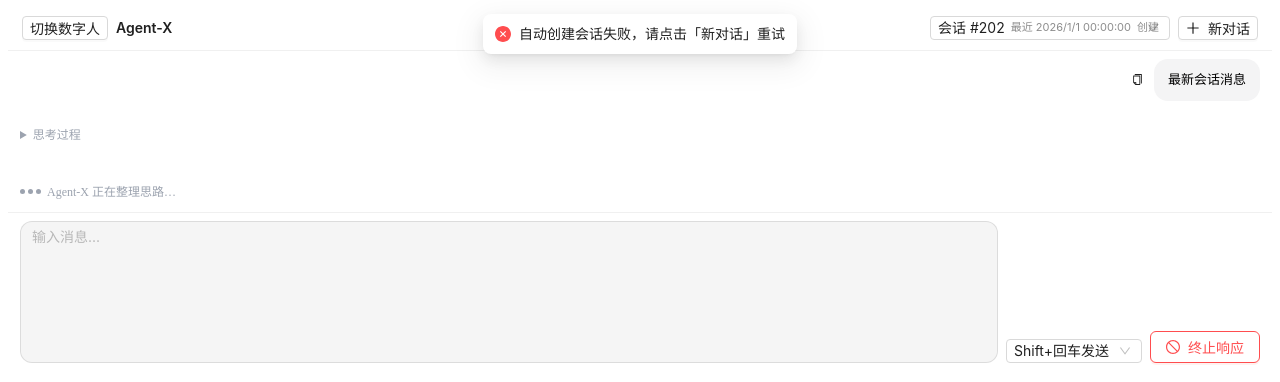
Test case: WorkitemClarificationPanel › does not render old realtime thinking after selecting a historical conversation
Check: the text "最新会话消息" is shown, box [1154,59,1260,101]
Press the mouse on the dropdown labelled "会话 #202 最近 2026/1/1 00:00:00 创建 2026/1/1 00:00:00": (1050, 28) [938,17,1162,39]
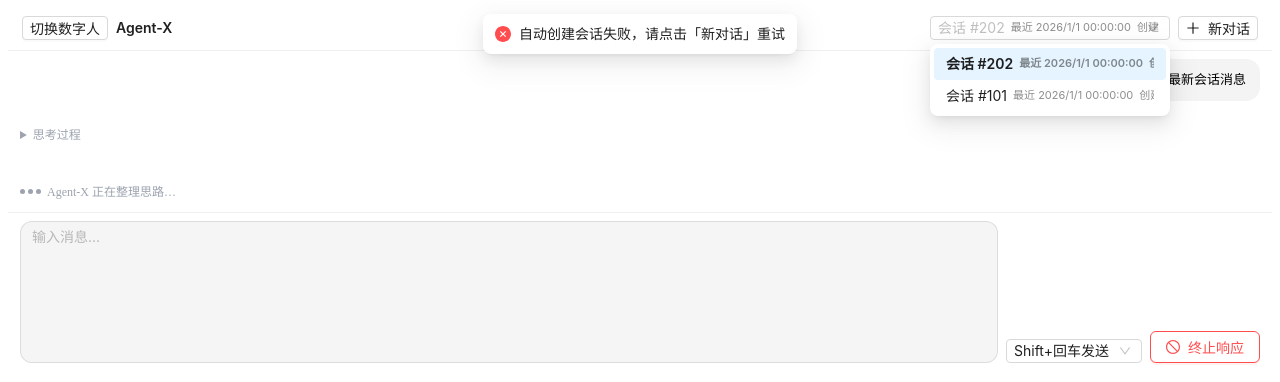
Click the text "会话 #101": (976, 96) [946,85,1007,107]
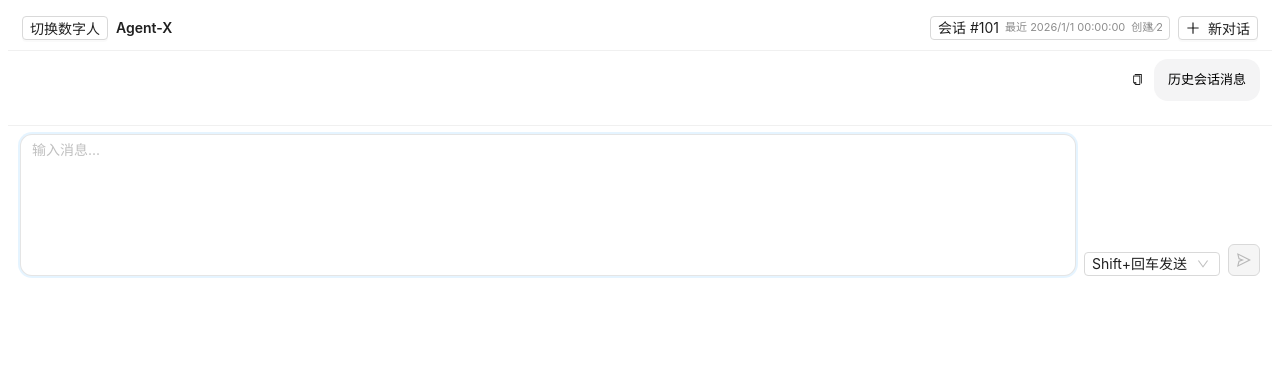
Check: the text "历史会话消息" is shown, box [1154,59,1260,101]
